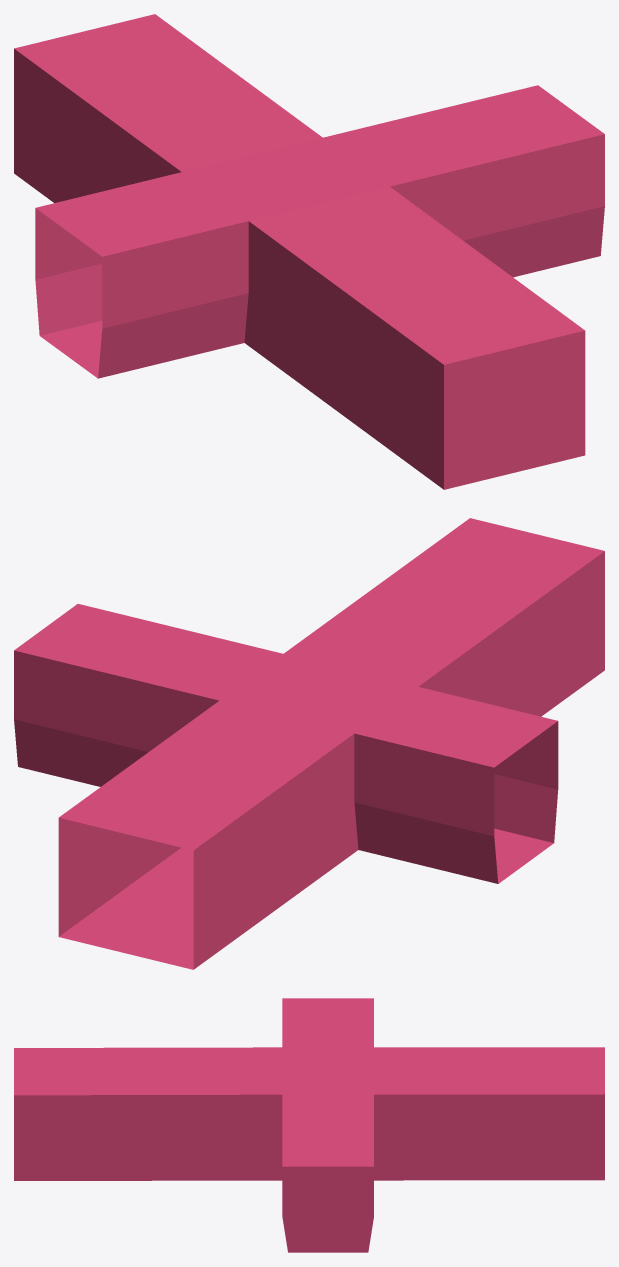
The model's file is Tip Area.fbx.
3 views of the same model, one above another, from view 1: azimuth 30°, elevation 25°; view 2: azimuth 150°, elevation 25°; view 3: azimuth 270°, elevation 25° (orthographic). The views are drawn at different scales.
Parts seen in each view (by area): view 1: Tip area; view 2: Tip area; view 3: Tip area.
Boxes of the visible parts, box(x1,y1,x2,y2) form: Tip area: box(14, 14, 604, 489); Tip area: box(14, 518, 604, 969); Tip area: box(14, 998, 604, 1252).
Size of the model in its own units: 687 by 165 by 1019.
